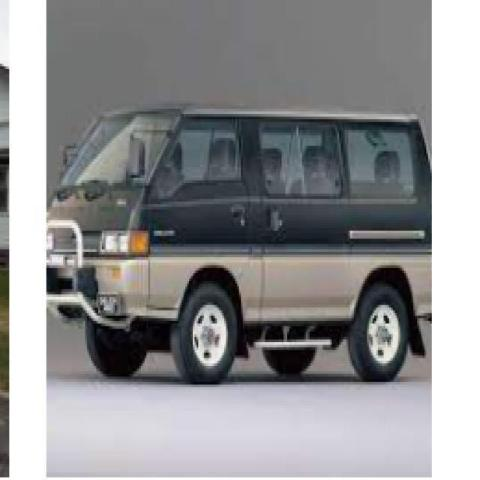van: (46, 98, 432, 384)
